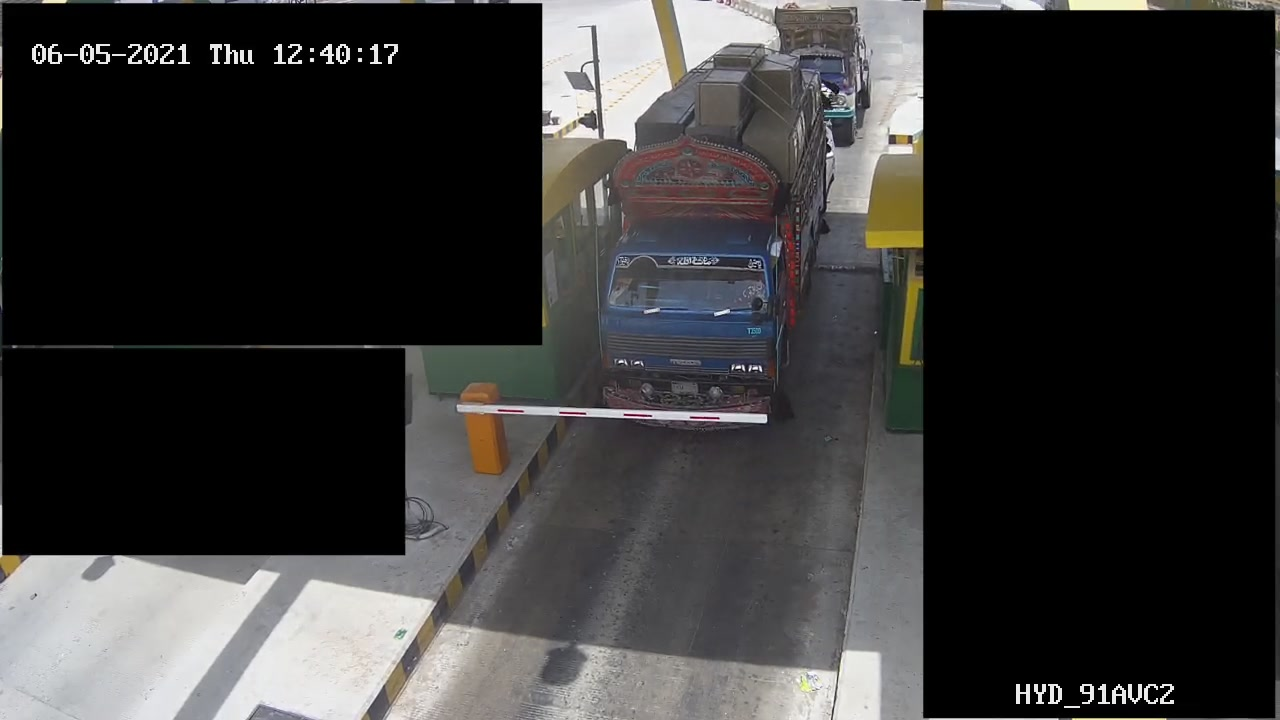F5: (597, 43, 834, 421)
